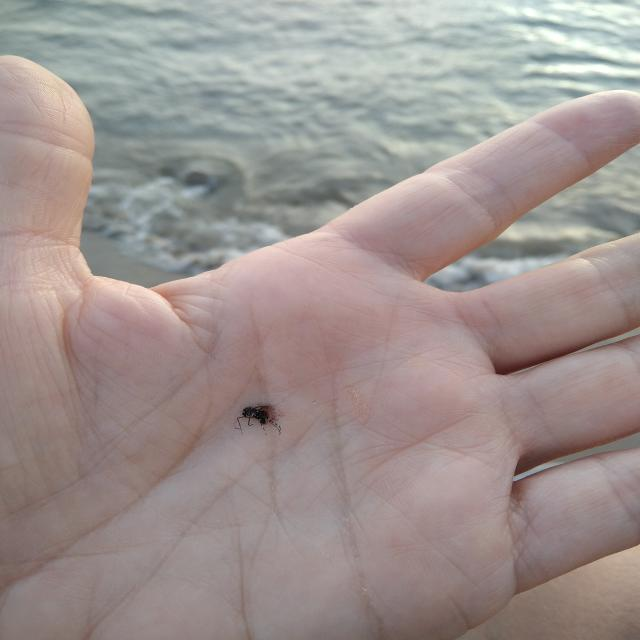albopictus: (232, 401, 290, 440)
